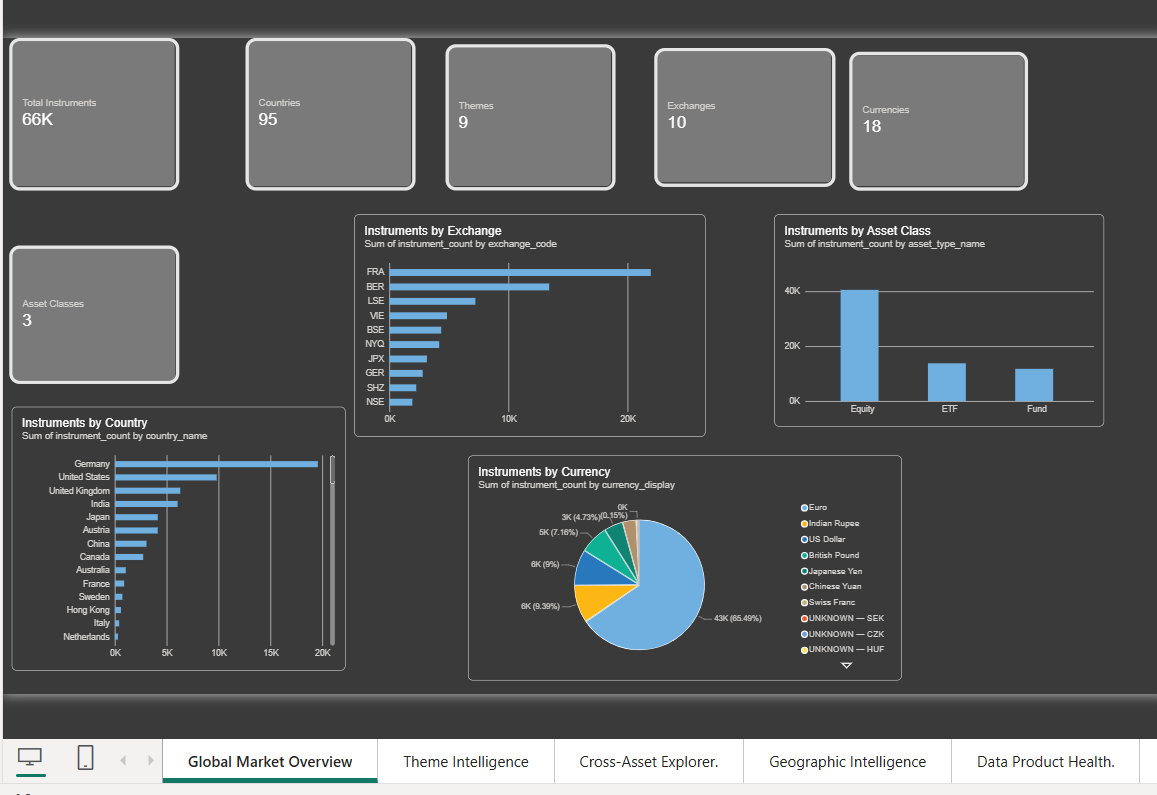

This screenshot's page, from the dashboard's own definition file:
{"tool":"powerbi","page":{"name":"Global Market Overview","canvas":[1920,1080],"ordinal":0},"visuals":[{"type":"cardVisual","fields":{"Data":["Sum(vw_TaxonomyCoverageOverall.total_instruments)"]},"box":[10.3,0,279.9,251.1],"z":0},{"type":"cardVisual","fields":{"Data":["Count(vw_MarketByExchange.exchange_code)"]},"box":[1072.4,16.5,298.5,228.5],"z":1000},{"type":"cardVisual","fields":{"Data":["Count(vw_MarketByExchange.asset_type_name)"]},"box":[10.3,341.7,280,228],"z":2000},{"type":"cardVisual","fields":{"Data":["vw_MarketByCurrency.Currencies"]},"box":[1393.5,22.6,294.3,228.5],"z":3000},{"type":"cardVisual","fields":{"Data":["Count(vw_ThemeCoverageScore.theme_name)"]},"box":[728.6,10.3,279.9,240.8],"z":4000},{"type":"clusteredBarChart","title":"Instruments by Country","fields":{"Category":["vw_MarketByCountry.country_name"],"Y":["Sum(vw_MarketByCountry.instrument_count)"]},"box":[14.4,607.2,549.6,434.3],"z":5000},{"type":"clusteredColumnChart","title":"Instruments by Asset Class","fields":{"Category":["vw_MarketByExchange.asset_type_name"],"Y":["Sum(vw_MarketByExchange.instrument_count)"]},"box":[1270,290.2,543.4,349.9],"z":6000},{"type":"cardVisual","fields":{"Data":["vw_MarketByCountry.Countries"]},"box":[399.3,0,279.9,251.1],"z":7000},{"type":"clusteredBarChart","title":"Instruments by Exchange","fields":{"Category":["vw_MarketByExchange.exchange_code"],"Y":["Sum(vw_MarketByExchange.instrument_count)"]},"box":[578.4,290.2,578.4,366.4],"z":8000},{"type":"pieChart","title":"Instruments by Currency","fields":{"Category":["vw_MarketByCurrency.currency_display"],"Y":["Sum(vw_MarketByCurrency.instrument_count)"]},"box":[765.7,687.5,714.2,370.5],"z":9000}]}

Visuals, with their boxes on the page's 1920x1080 design canvas (x1, y1, x2, y2). These are canvas units, not pixel positions in the 1157x795 screenshot, which may show the page scaled, cropped or inside an application window:
cardVisual - Sum(vw_TaxonomyCoverageOverall.total_instruments): bbox(10, 0, 290, 251)
cardVisual - Count(vw_MarketByExchange.exchange_code): bbox(1072, 16, 1371, 245)
cardVisual - Count(vw_MarketByExchange.asset_type_name): bbox(10, 342, 290, 570)
cardVisual - vw_MarketByCurrency.Currencies: bbox(1394, 23, 1688, 251)
cardVisual - Count(vw_ThemeCoverageScore.theme_name): bbox(729, 10, 1008, 251)
"Instruments by Country" clusteredBarChart: bbox(14, 607, 564, 1042)
"Instruments by Asset Class" clusteredColumnChart: bbox(1270, 290, 1813, 640)
cardVisual - vw_MarketByCountry.Countries: bbox(399, 0, 679, 251)
"Instruments by Exchange" clusteredBarChart: bbox(578, 290, 1157, 657)
"Instruments by Currency" pieChart: bbox(766, 688, 1480, 1058)
